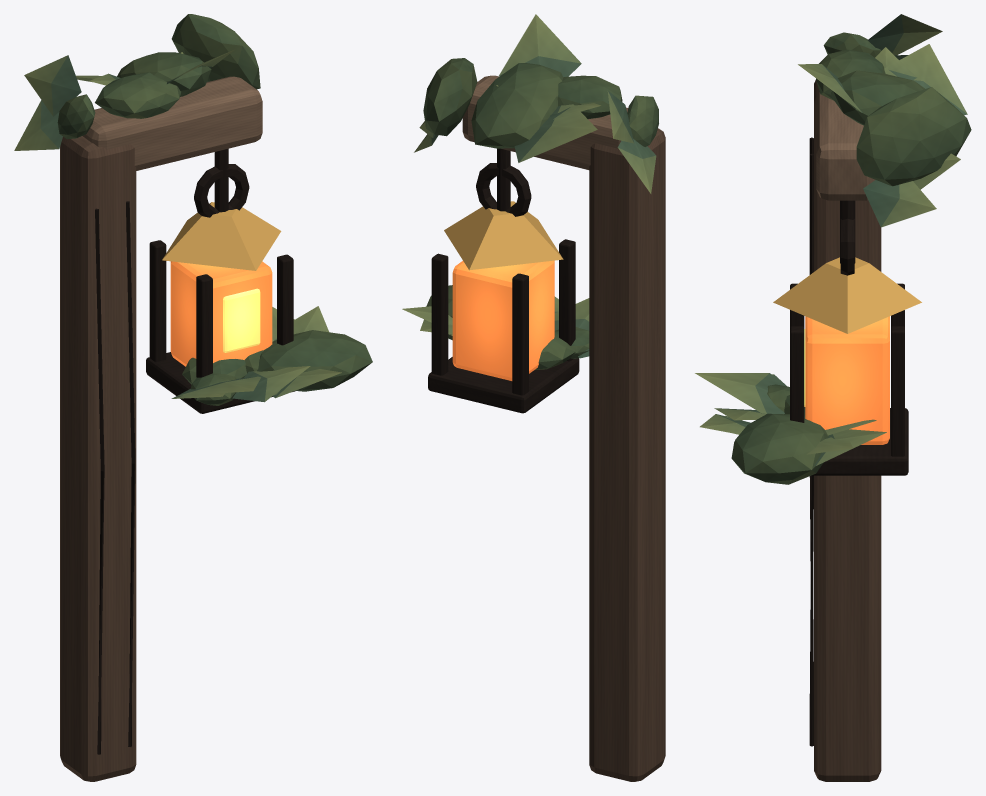
The model's file is forest_lantern_post.glb.
3 renders of one model, left to right at view 1: azimuth 30°, elevation 25°; view 2: azimuth 150°, elevation 25°; view 3: azimuth 270°, elevation 25°, orthographic. The views are drawn at different scales.
Visible parts, largest first — view 1: Woodland lantern upright, Woodland lantern bracket, Lantern amber glass, Lantern roof, Woodland shared moss cushion.080, Woodland shared moss cushion.081, Woodland shared moss cushion.085, Lantern post grain, Lantern post grain.001, Woodland shared moss cushion.083, Lantern hot glass inset, Lantern corner.001 (+14 smaller); view 2: Woodland lantern upright, Lantern amber glass, Woodland shared moss cushion.083, Lantern roof, Lantern bottom, Woodland shared moss cushion.081, Woodland lantern bracket, Woodland shared curved ivy leaf.200, Lantern corner.003, Lantern corner.001, Woodland shared curved ivy leaf.199, Woodland shared moss cushion.085 (+8 smaller); view 3: Woodland lantern upright, Lantern amber glass, Woodland shared moss cushion.081, Lantern roof, Woodland shared moss cushion.080, Woodland lantern bracket, Woodland shared moss cushion.083, Lantern bottom, Woodland shared curved ivy leaf.196, Woodland shared curved ivy leaf.189, Lantern corner.003, Lantern post grain.001 (+10 smaller).
Boxes of the visible parts, left/top/right/bottom form: Woodland lantern upright: left=60, top=136, right=136, bottom=781; Woodland lantern bracket: left=83, top=76, right=262, bottom=170; Lantern amber glass: left=170, top=261, right=272, bottom=366; Lantern roof: left=162, top=202, right=281, bottom=270; Woodland shared moss cushion.080: left=257, top=330, right=372, bottom=391; Woodland shared moss cushion.081: left=171, top=14, right=260, bottom=89; Woodland shared moss cushion.085: left=95, top=72, right=180, bottom=118; Lantern post grain: left=95, top=208, right=104, bottom=754; Lantern post grain.001: left=126, top=201, right=135, bottom=746; Woodland shared moss cushion.083: left=117, top=52, right=211, bottom=96; Lantern hot glass inset: left=223, top=288, right=260, bottom=352; Lantern corner.001: left=149, top=240, right=166, bottom=361; Woodland lantern upright: left=589, top=128, right=665, bottom=781; Lantern amber glass: left=452, top=260, right=554, bottom=380; Woodland shared moss cushion.083: left=471, top=63, right=563, bottom=148; Lantern roof: left=444, top=201, right=563, bottom=270; Lantern bottom: left=428, top=357, right=579, bottom=413; Woodland shared moss cushion.081: left=423, top=58, right=477, bottom=136; Woodland lantern bracket: left=462, top=75, right=628, bottom=169; Woodland shared curved ivy leaf.200: left=499, top=14, right=581, bottom=76; Lantern corner.003: left=431, top=253, right=448, bottom=375; Lantern corner.001: left=512, top=273, right=528, bottom=395; Woodland shared curved ivy leaf.199: left=514, top=104, right=597, bottom=162; Woodland shared moss cushion.085: left=557, top=75, right=622, bottom=119; Woodland lantern upright: left=814, top=80, right=881, bottom=781; Lantern amber glass: left=805, top=316, right=889, bottom=444; Woodland shared moss cushion.081: left=856, top=87, right=971, bottom=186; Lantern roof: left=773, top=257, right=921, bottom=333; Woodland shared moss cushion.080: left=731, top=413, right=828, bottom=484; Woodland lantern bracket: left=816, top=81, right=875, bottom=200; Woodland shared moss cushion.083: left=830, top=70, right=924, bottom=125; Lantern bottom: left=811, top=408, right=908, bottom=475; Woodland shared curved ivy leaf.196: left=863, top=180, right=936, bottom=227; Woodland shared curved ivy leaf.189: left=695, top=373, right=784, bottom=413; Lantern corner.003: left=891, top=326, right=904, bottom=456; Lantern post grain.001: left=809, top=154, right=813, bottom=746.
Size of the model in its own units: 0.7312 by 1.76 by 0.5751.
Materials: 9 (8 with a texture image).
